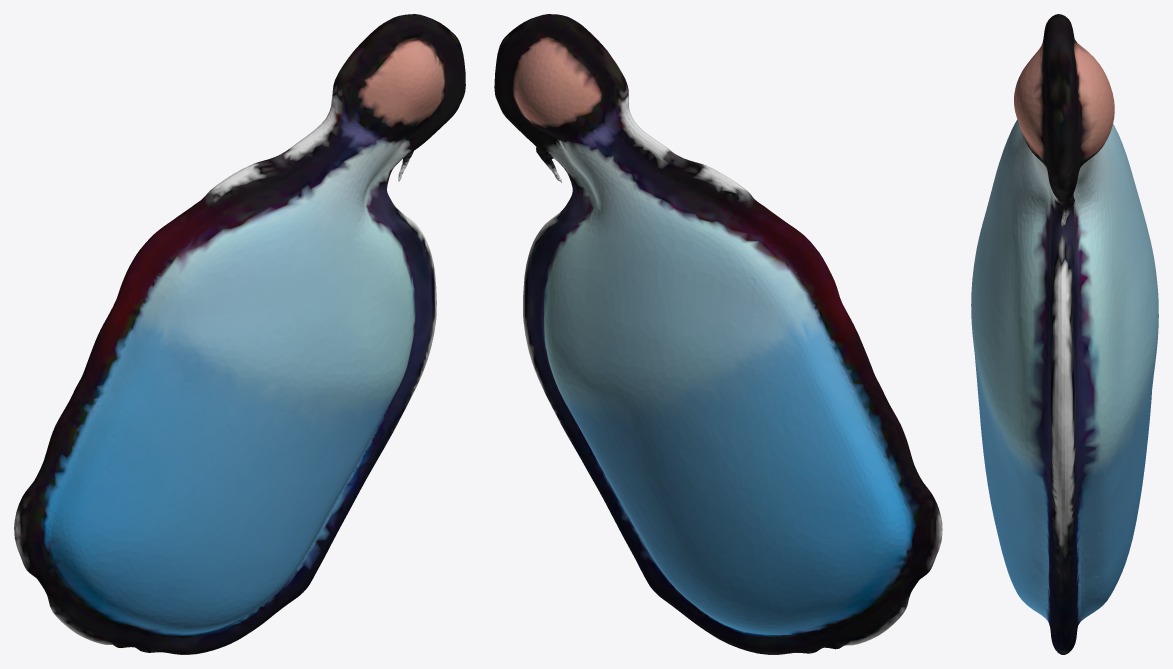
File: water_wise.glb
The picture shows the model from 3 angles, left to right: view 1: azimuth 30°, elevation 25°; view 2: azimuth 150°, elevation 25°; view 3: azimuth 270°, elevation 25°; orthographic projection. The views are drawn at different scales.
Parts seen in each view (by area): view 1: geometry_0; view 2: geometry_0; view 3: geometry_0.
Boxes of the visible parts, box(x1,y1,x2,y2) form: geometry_0: box(14, 14, 465, 654); geometry_0: box(494, 14, 942, 654); geometry_0: box(971, 14, 1158, 654).
Size of the model in its own units: 0.4375 by 0.549 by 0.1264.
